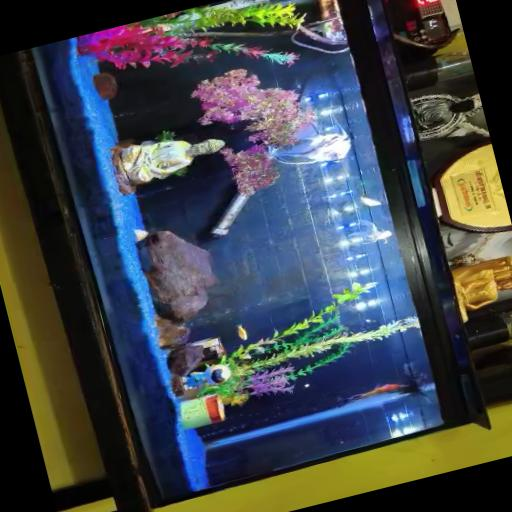Fish: (343, 362, 430, 404), (269, 125, 349, 164), (346, 383, 405, 402), (349, 219, 391, 243), (359, 194, 380, 206), (236, 324, 247, 340)
